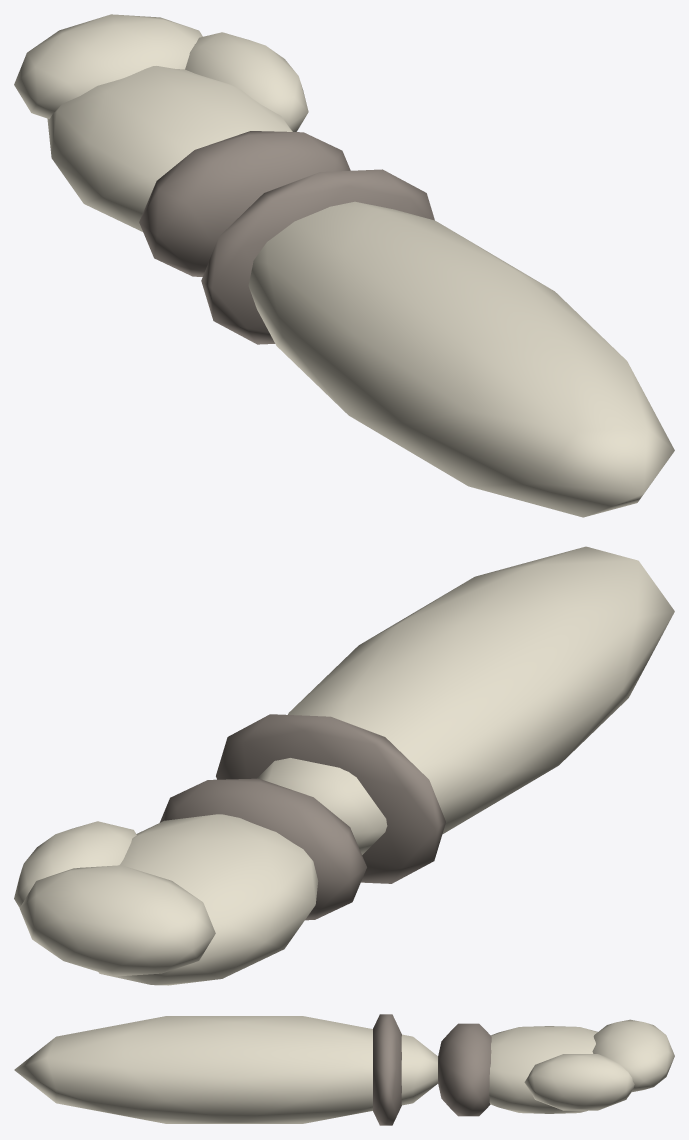
File: eva_glove.glb
The picture shows the model from 3 angles, top to bottom: view 1: azimuth 30°, elevation 25°; view 2: azimuth 150°, elevation 25°; view 3: azimuth 270°, elevation 25°; orthographic projection. The views are drawn at different scales.
Parts seen in each view (by area): view 1: Sleeve, Palm, Cuff, Sleeve ring, Fingers, Thumb; view 2: Sleeve, Palm, Fingers, Sleeve ring, Cuff, Thumb; view 3: Sleeve, Palm, Thumb, Cuff, Fingers, Sleeve ring.
Part boxes in pixels (x1=…): Sleeve: x1=248, y1=201, x2=674, y2=517; Palm: x1=47, y1=66, x2=292, y2=231; Cuff: x1=139, y1=131, x2=350, y2=276; Sleeve ring: x1=201, y1=169, x2=434, y2=344; Fingers: x1=14, y1=14, x2=202, y2=118; Thumb: x1=185, y1=32, x2=308, y2=131; Sleeve: x1=257, y1=546, x2=674, y2=854; Palm: x1=98, y1=814, x2=318, y2=985; Fingers: x1=19, y1=865, x2=215, y2=976; Sleeve ring: x1=216, y1=714, x2=445, y2=883; Cuff: x1=159, y1=778, x2=366, y2=920; Thumb: x1=14, y1=821, x2=136, y2=907; Sleeve: x1=14, y1=1016, x2=437, y2=1123; Palm: x1=489, y1=1026, x2=631, y2=1113; Thumb: x1=524, y1=1054, x2=634, y2=1110; Cuff: x1=438, y1=1023, x2=491, y2=1116; Fingers: x1=592, y1=1019, x2=674, y2=1092; Sleeve ring: x1=373, y1=1014, x2=401, y2=1125.
Size of the model in its own units: 0.1974 by 0.128 by 0.785.
